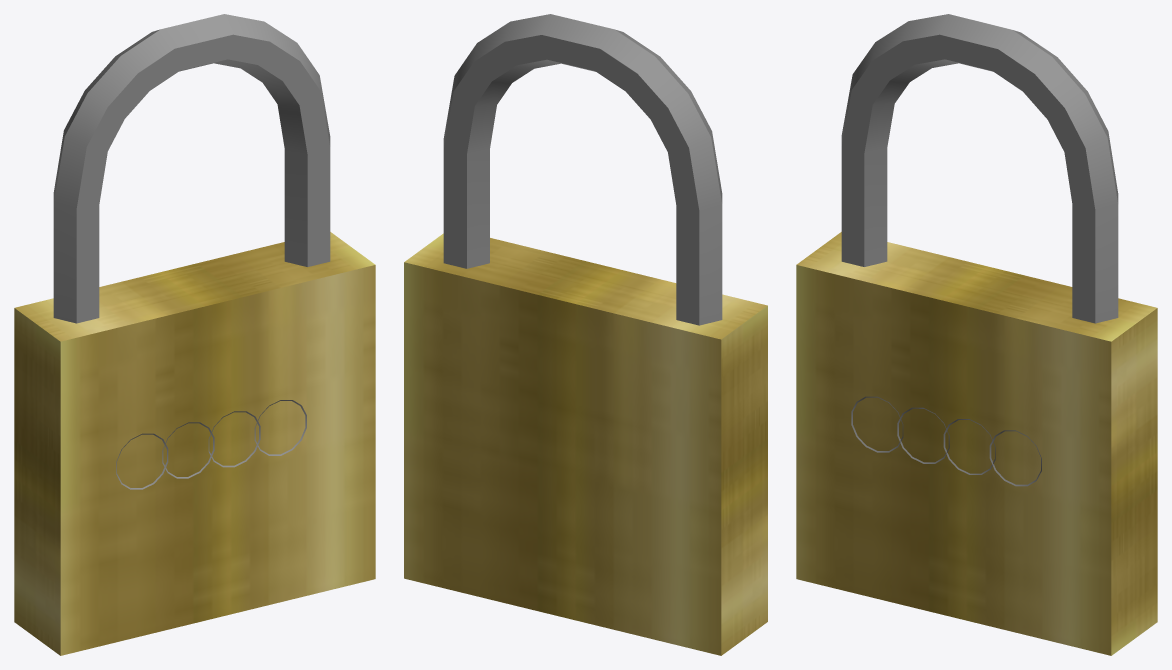
Rendered from Lock.FBX.
The picture shows the model from 3 angles, left to right: view 1: azimuth 30°, elevation 25°; view 2: azimuth 150°, elevation 25°; view 3: azimuth 330°, elevation 25°; orthographic projection.
Parts seen in each view (by area): view 1: Box001, Arc002, Circle005; view 2: Box001, Arc002; view 3: Box001, Arc002, Circle005.
Boxes of the visible parts, left/top/right/bottom form: Box001: left=14, top=232, right=375, bottom=655; Arc002: left=53, top=14, right=330, bottom=323; Circle005: left=116, top=400, right=306, bottom=489; Box001: left=404, top=233, right=767, bottom=655; Arc002: left=443, top=14, right=722, bottom=325; Box001: left=796, top=232, right=1157, bottom=655; Arc002: left=841, top=14, right=1118, bottom=323; Circle005: left=851, top=396, right=1041, bottom=486.
Bounding box in the file's own units: 11.64 × 20.36 × 2.98.
2 materials, 1 textured.
